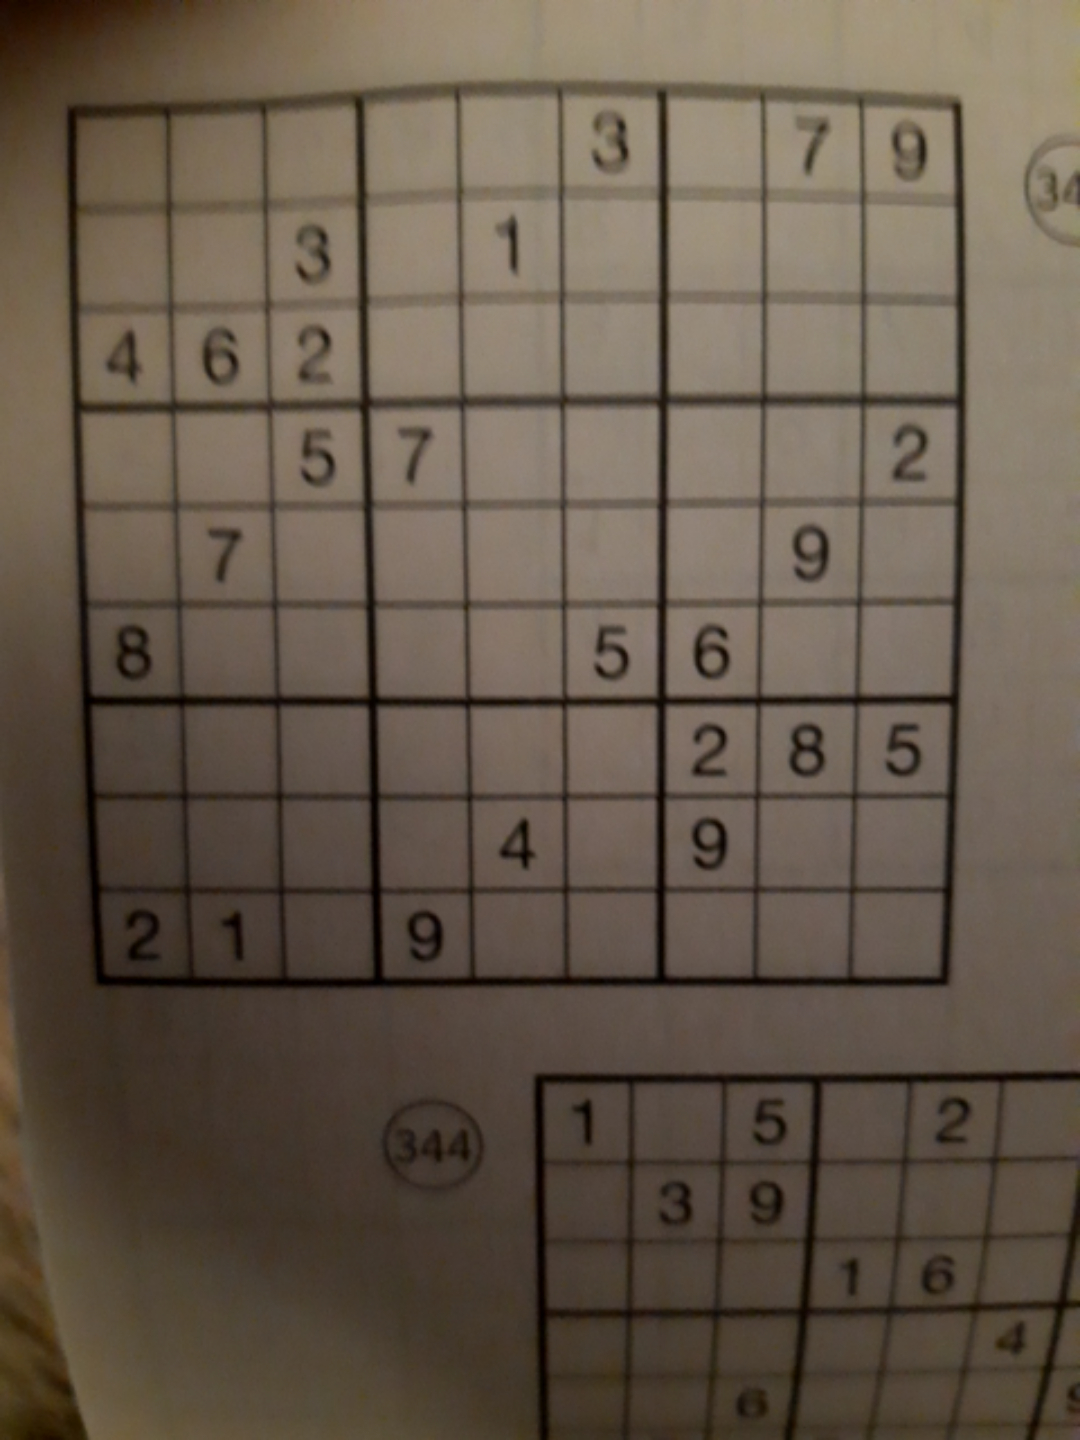sudoku: (64, 82, 962, 990)
